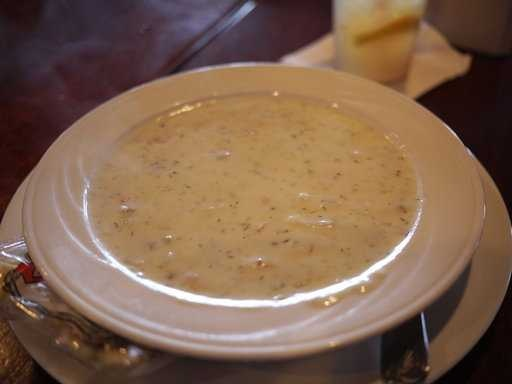soup: (91, 82, 399, 299)
